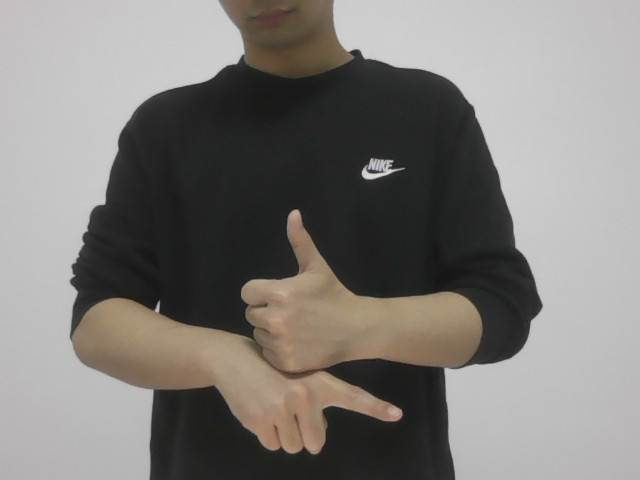birthday: (208, 202, 410, 465)
